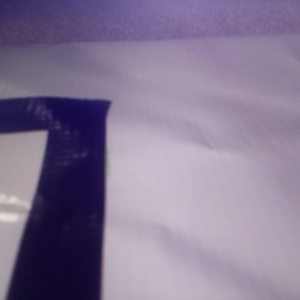bottom_right: (77, 58, 182, 100), (18, 2, 91, 19)
top_left: (30, 147, 182, 265), (159, 13, 229, 42)
